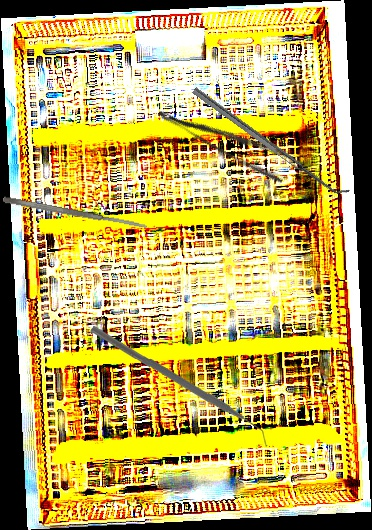Chopper: (89, 323, 269, 452)
Dressing Forceps: (156, 87, 297, 187)
Spatula Surgical: (192, 81, 350, 202), (2, 195, 148, 231)
